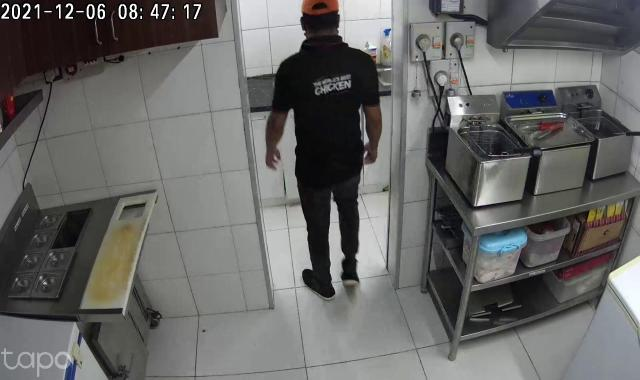no_hairnet: (301, 0, 342, 19)
